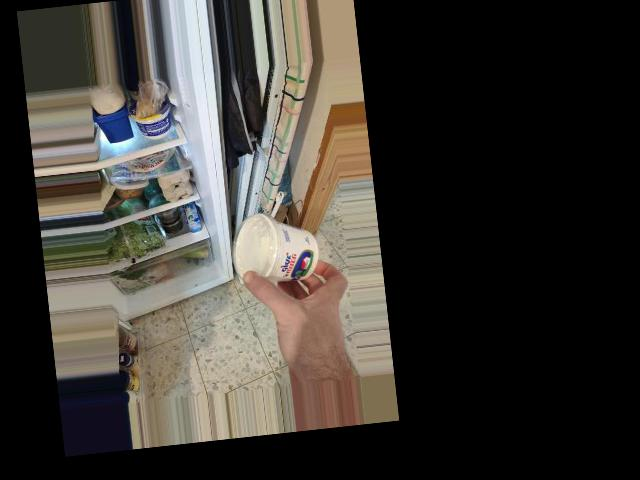cotage: (243, 202, 322, 293)
